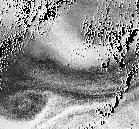CE: (3, 83, 53, 123)
